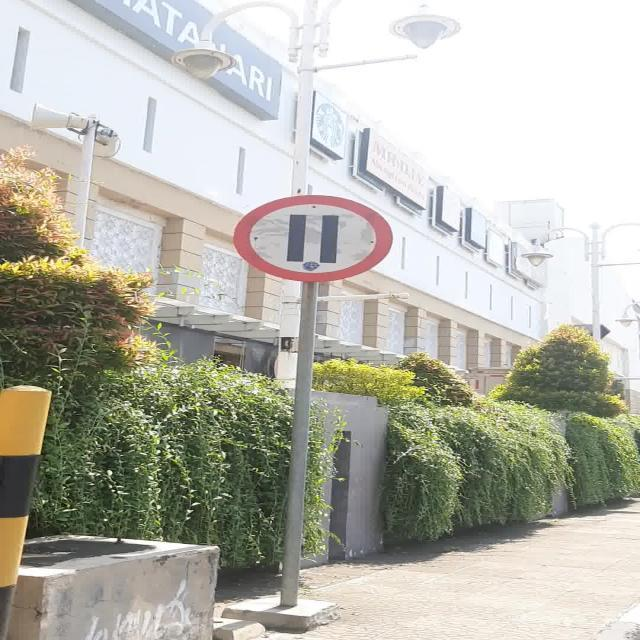Larangan Muatan - 10 ton: (232, 195, 392, 282)
